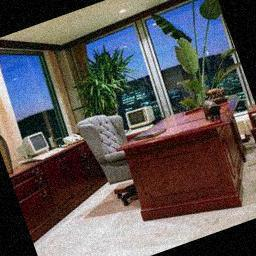Matera: (143, 0, 256, 162), (61, 39, 171, 193)
